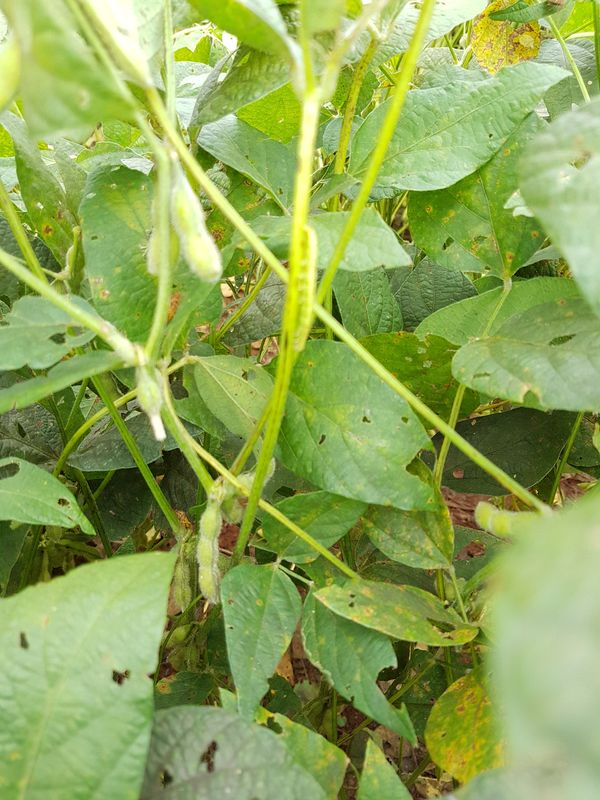Anticarsia_gemmatalis: (270, 222, 342, 359)
